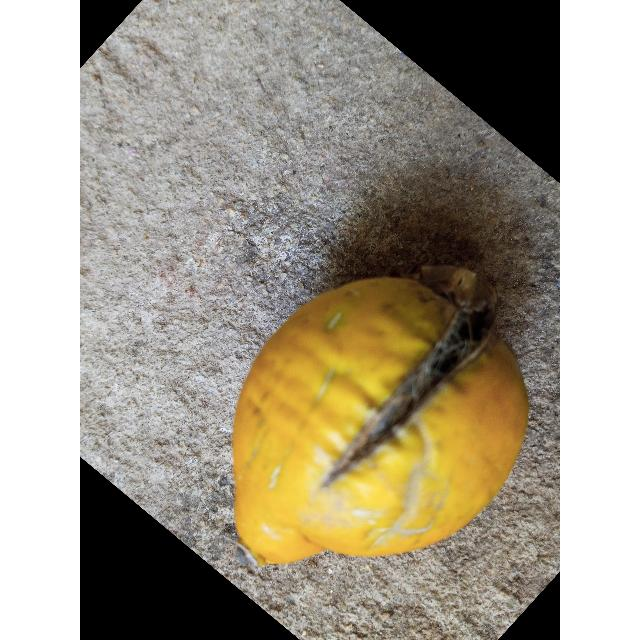damaged: (233, 278, 528, 566)
